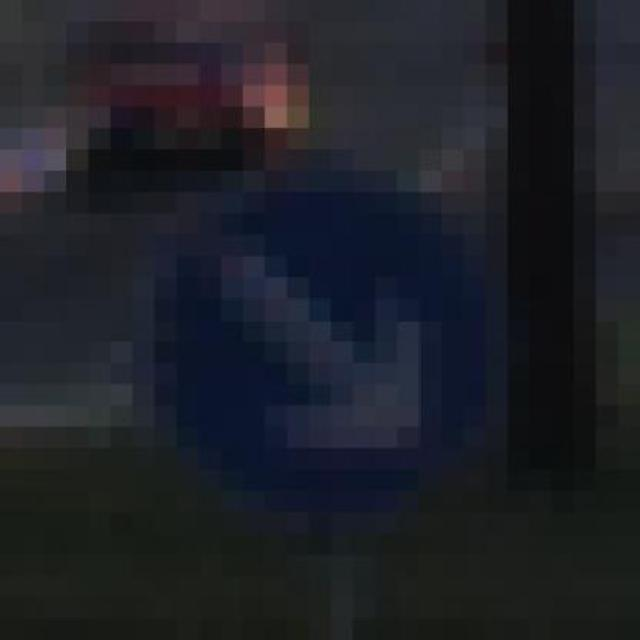Keep-Right: (132, 128, 508, 512)
